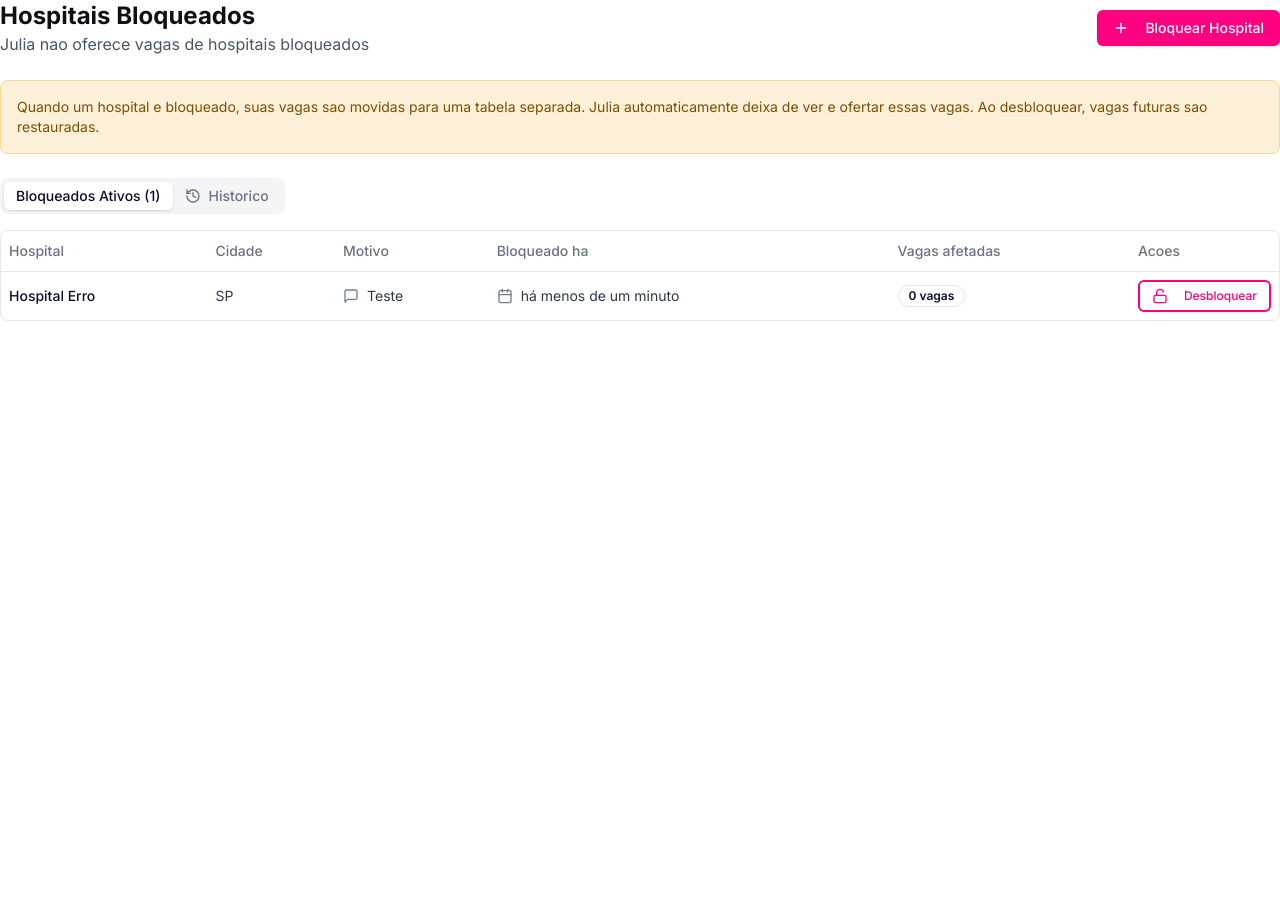
Test case: HospitaisBloqueadosPage › shows error toast when unblock fails
Expected: the text "Hospital Erro" is shown, [1,271,207,320]
Note: Click desbloquear
What coordinates should you click on to do the following:
click the button "Desbloquear"
I would click on:
 (1204, 296)
Its box is [1138,280,1271,312].
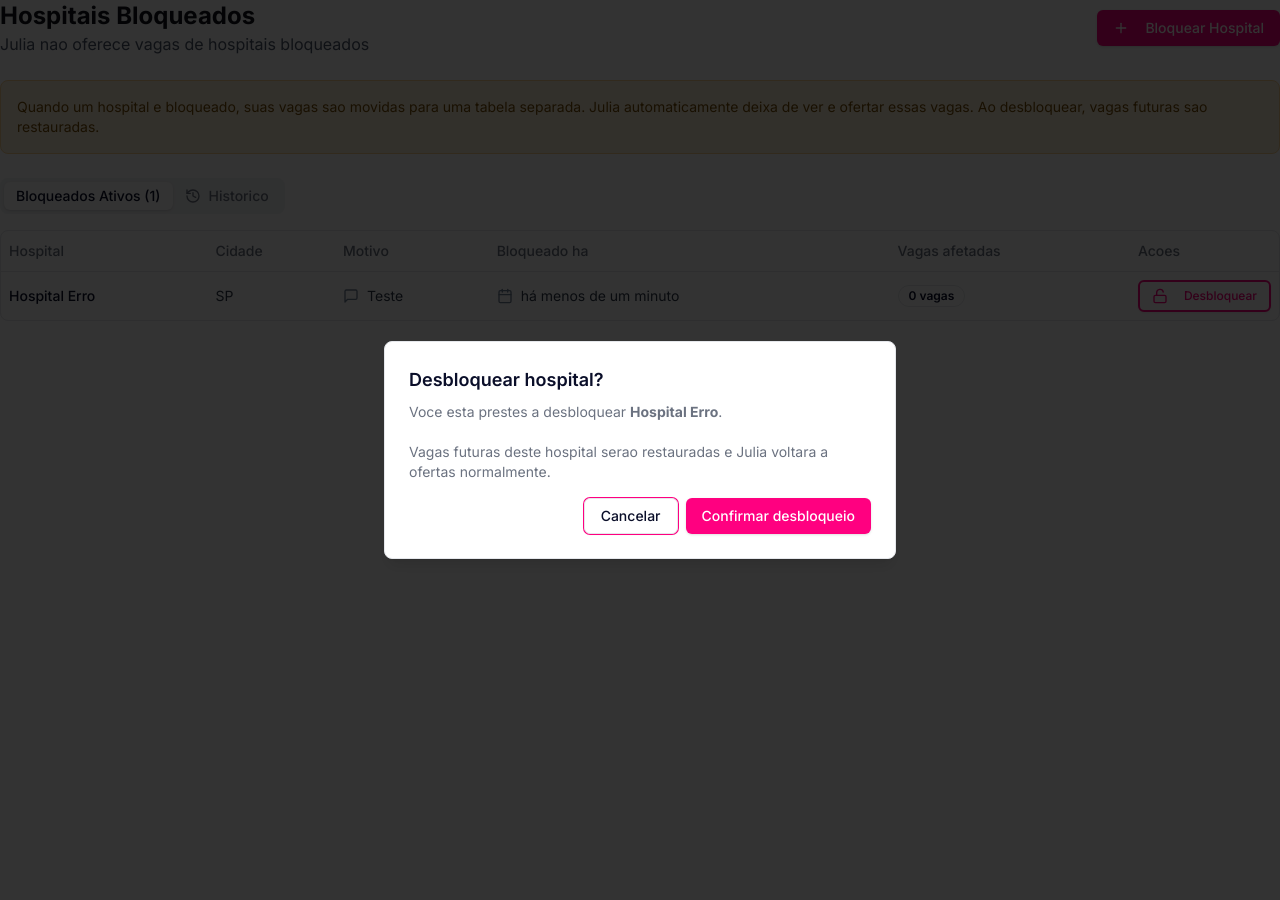
Now the dialog is shown, box [384,341,896,559]
What coordinates should you click on to do the following:
click the button "Confirmar desbloqueio"
I would click on:
 (778, 516)
Its box is [686,498,871,534].
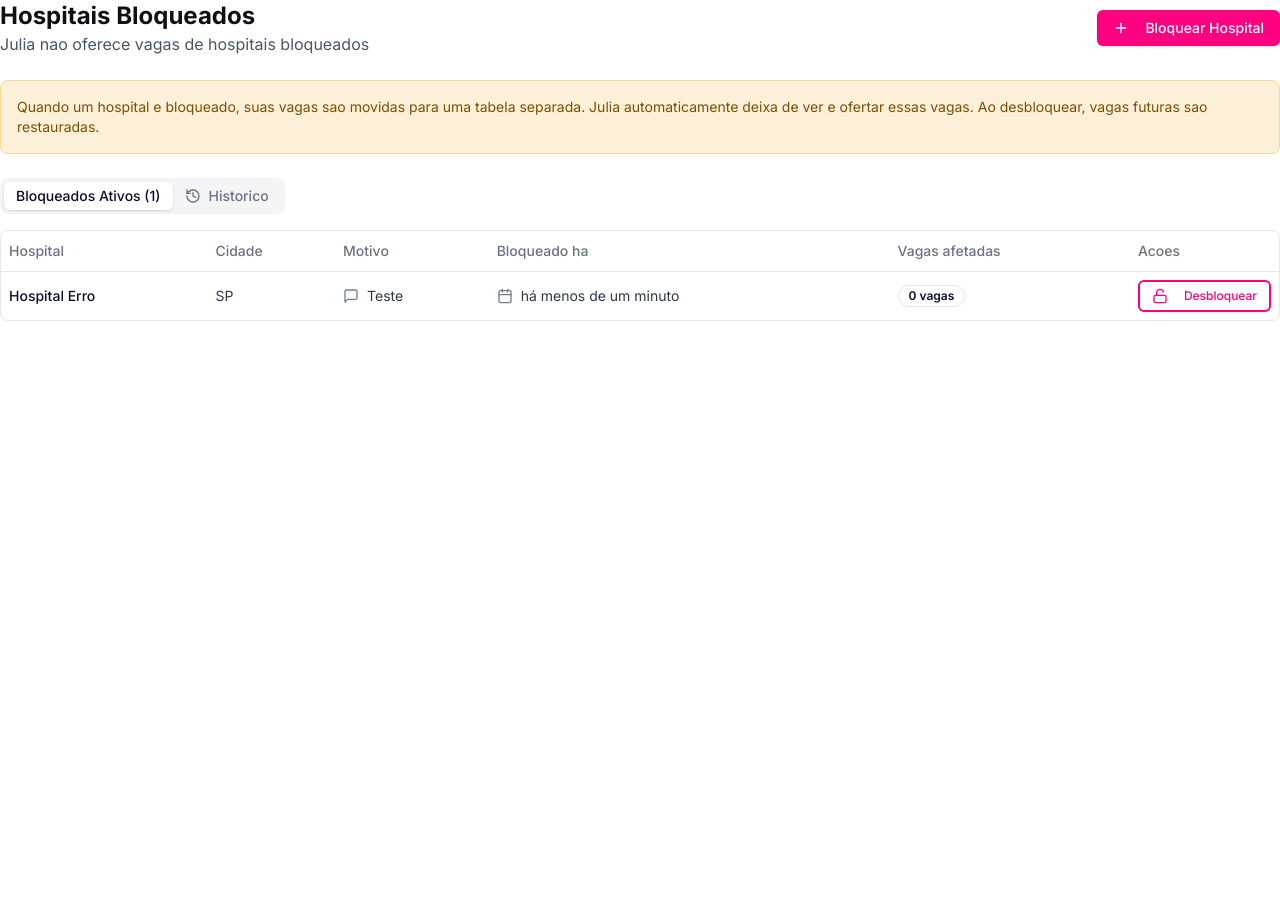
Now the dialog is gone
